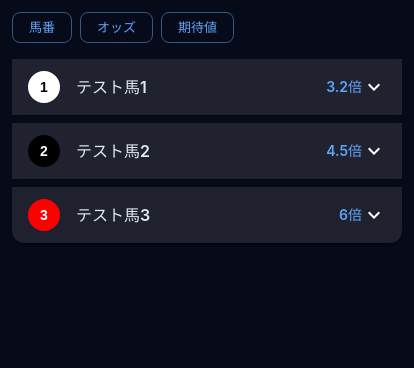
Scenario: RaceTableMobileView › アコーディオンが展開できること
Click the 1st icon with test id "ExpandMoreIcon" at (374, 87), box [362,75,386,99]
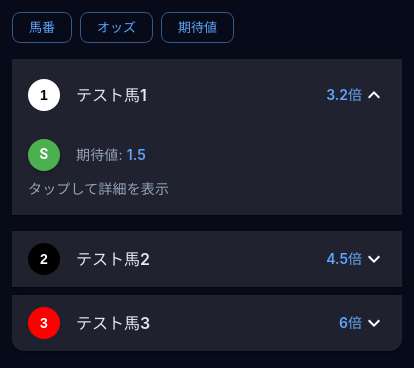
Result: the text "タップして詳細を表示" is shown at [28,180,169,197]
